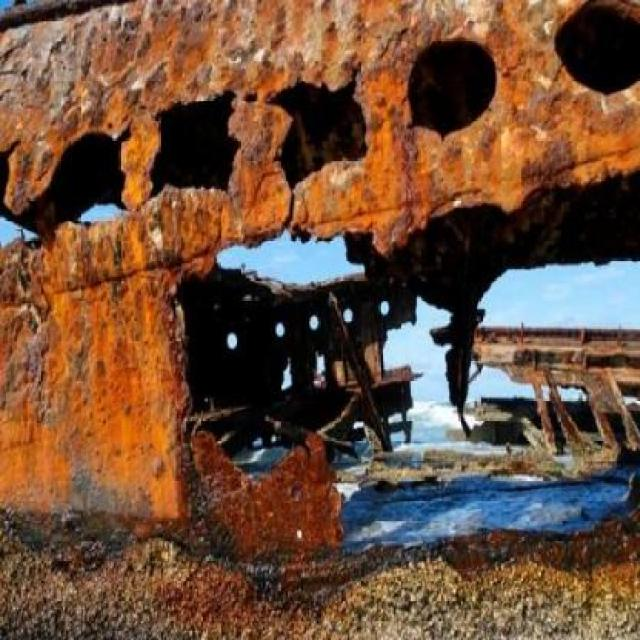corrosion: (0, 3, 640, 639)
